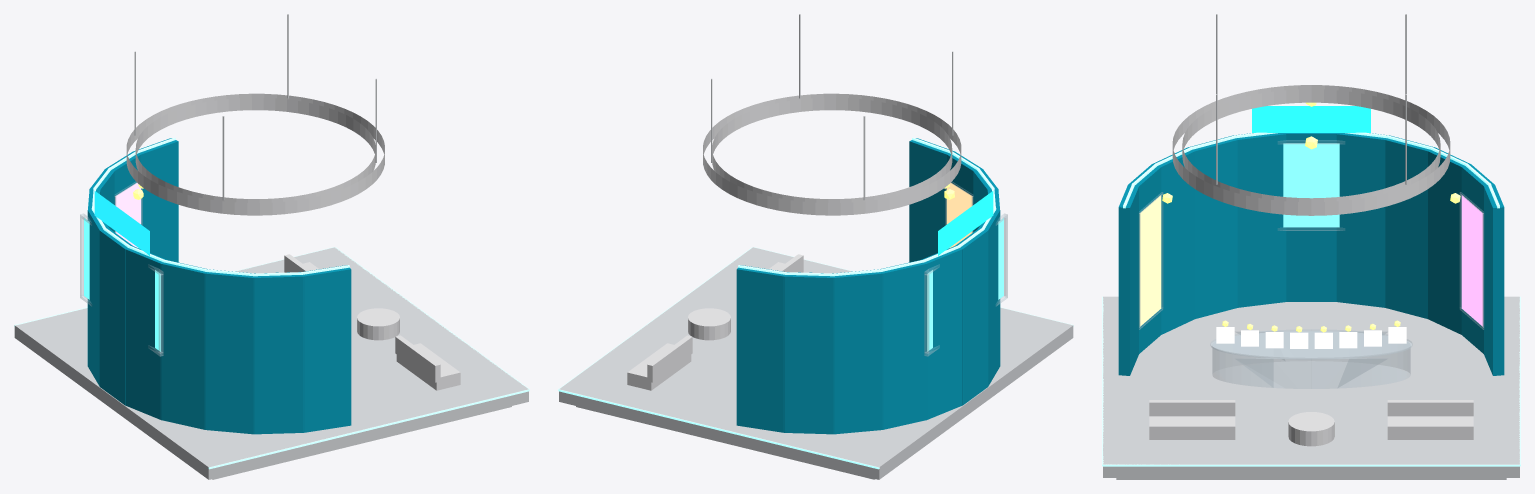
Rendered from Booth_Pre_T02.glb.
3 views of the same model, side by side, from view 1: azimuth 30°, elevation 25°; view 2: azimuth 150°, elevation 25°; view 3: azimuth 270°, elevation 25° (orthographic). The views are drawn at different scales.
Parts seen in each view (by area): view 1: Booth_Pre_T02__Color__Primary, Booth_Pre_T02__Anti_gravity, Booth_Pre_T02__Color__Secondary_Ring, Booth_Pre_T02__Color__Secondary, Booth_Pre_T02__Glowing_line, Booth_Pre_T02__Logo_01__Display, Booth_Pre_T02__Glowing_line_Top, Booth_Pre_T02__Frame_001__Video, Booth_Pre_T02__Video_horizon__Display, Booth_Pre_T02__Ring_Cables, Booth_Pre_T02__Image_02__Display; view 2: Booth_Pre_T02__Color__Primary, Booth_Pre_T02__Anti_gravity, Booth_Pre_T02__Color__Secondary_Ring, Booth_Pre_T02__Color__Secondary, Booth_Pre_T02__Logo_01__Display, Booth_Pre_T02__Glowing_line, Booth_Pre_T02__Glowing_line_Top, Booth_Pre_T02__Frame_001__Video, Booth_Pre_T02__Video_horizon__Display, Booth_Pre_T02__Ring_Cables, Booth_Pre_T02__Image_01__Display; view 3: Booth_Pre_T02__Anti_gravity, Booth_Pre_T02__Color__Primary, Booth_Pre_T02__Color__Secondary_Ring, Booth_Pre_T02__Frame_004__Product, Booth_Pre_T02__Color__Secondary, Booth_Pre_T02__Video_horizon__Display, Booth_Pre_T02__Logo_01__Display, Booth_Pre_T02__Image_01__Display, Booth_Pre_T02__Image_02__Display, Booth_Pre_T02__Glowing_line, Booth_Pre_T02, Booth_Pre_T02__Glowing_line_Top (+2 smaller).
Part boxes in pixels (box(x1,y1,x2,y2)): Booth_Pre_T02__Color__Primary: box(87, 138, 351, 434); Booth_Pre_T02__Anti_gravity: box(14, 247, 528, 479); Booth_Pre_T02__Color__Secondary_Ring: box(126, 93, 384, 215); Booth_Pre_T02__Color__Secondary: box(284, 254, 460, 390); Booth_Pre_T02__Glowing_line: box(14, 247, 529, 469); Booth_Pre_T02__Logo_01__Display: box(94, 191, 149, 255); Booth_Pre_T02__Glowing_line_Top: box(91, 137, 349, 276); Booth_Pre_T02__Frame_001__Video: box(80, 213, 163, 356); Booth_Pre_T02__Video_horizon__Display: box(84, 218, 160, 351); Booth_Pre_T02__Ring_Cables: box(134, 14, 376, 200); Booth_Pre_T02__Image_02__Display: box(115, 183, 141, 248); Booth_Pre_T02__Color__Primary: box(736, 138, 1000, 434); Booth_Pre_T02__Anti_gravity: box(559, 247, 1073, 479); Booth_Pre_T02__Color__Secondary_Ring: box(703, 93, 961, 215); Booth_Pre_T02__Color__Secondary: box(627, 254, 803, 390); Booth_Pre_T02__Logo_01__Display: box(938, 191, 993, 255); Booth_Pre_T02__Glowing_line: box(558, 247, 1073, 469); Booth_Pre_T02__Glowing_line_Top: box(738, 137, 996, 276); Booth_Pre_T02__Frame_001__Video: box(924, 213, 1007, 356); Booth_Pre_T02__Video_horizon__Display: box(927, 218, 1003, 351); Booth_Pre_T02__Ring_Cables: box(711, 14, 953, 200); Booth_Pre_T02__Image_01__Display: box(946, 183, 972, 248); Booth_Pre_T02__Anti_gravity: box(1103, 296, 1519, 479); Booth_Pre_T02__Color__Primary: box(1118, 133, 1504, 375); Booth_Pre_T02__Color__Secondary_Ring: box(1172, 85, 1450, 215); Booth_Pre_T02__Frame_004__Product: box(1210, 329, 1412, 388); Booth_Pre_T02__Color__Secondary: box(1149, 400, 1473, 446); Booth_Pre_T02__Video_horizon__Display: box(1283, 143, 1339, 227); Booth_Pre_T02__Logo_01__Display: box(1252, 106, 1370, 132); Booth_Pre_T02__Image_01__Display: box(1139, 195, 1161, 326); Booth_Pre_T02__Image_02__Display: box(1461, 195, 1483, 326); Booth_Pre_T02__Glowing_line: box(1102, 296, 1520, 466); Booth_Pre_T02: box(1139, 102, 1483, 332); Booth_Pre_T02__Glowing_line_Top: box(1123, 132, 1499, 208).
Size of the model in its own units: 12.03 by 11.3 by 12.66.
